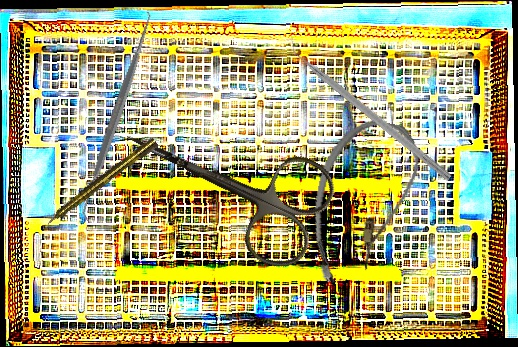Cannula: (300, 112, 427, 295)
Chopper: (280, 31, 460, 182)
Handpiece: (41, 136, 160, 230)
Iris Scissors: (103, 83, 343, 278)
Spatula Surgical: (69, 9, 164, 223)
